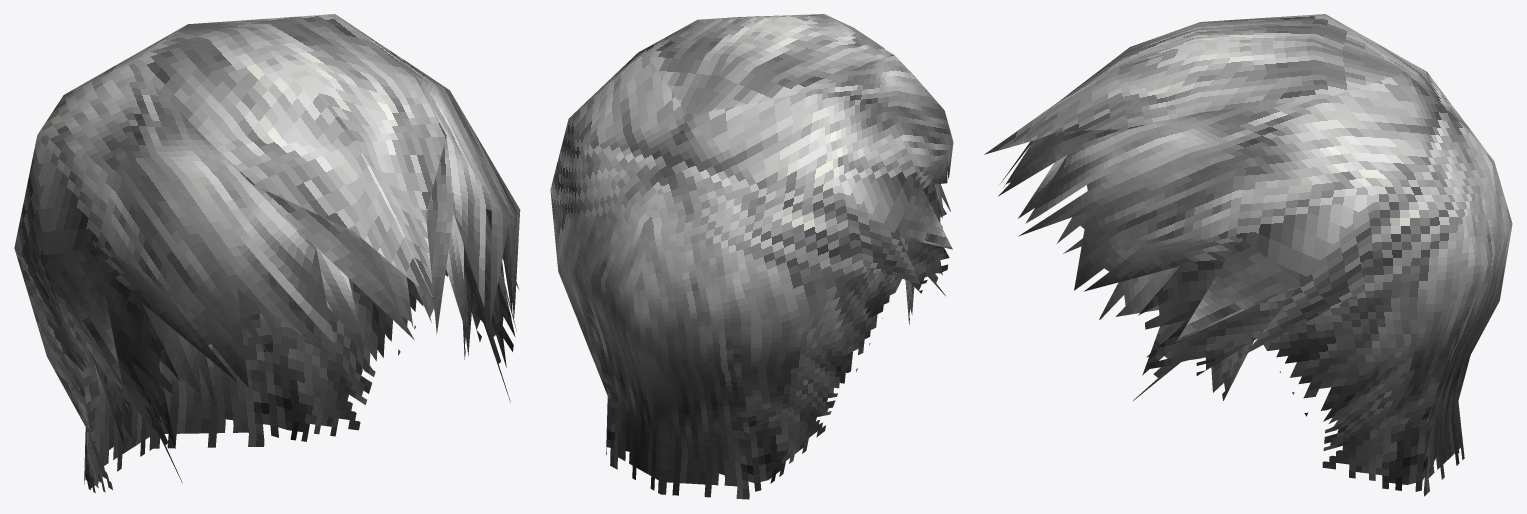
File: f_body005.glb
The picture shows the model from 3 angles, left to right: view 1: azimuth 30°, elevation 25°; view 2: azimuth 150°, elevation 25°; view 3: azimuth 270°, elevation 25°; orthographic projection. The views are drawn at different scales.
Bounding box in the file's own units: 18.57 × 21.17 × 24.33.
1 material, 1 textured.
